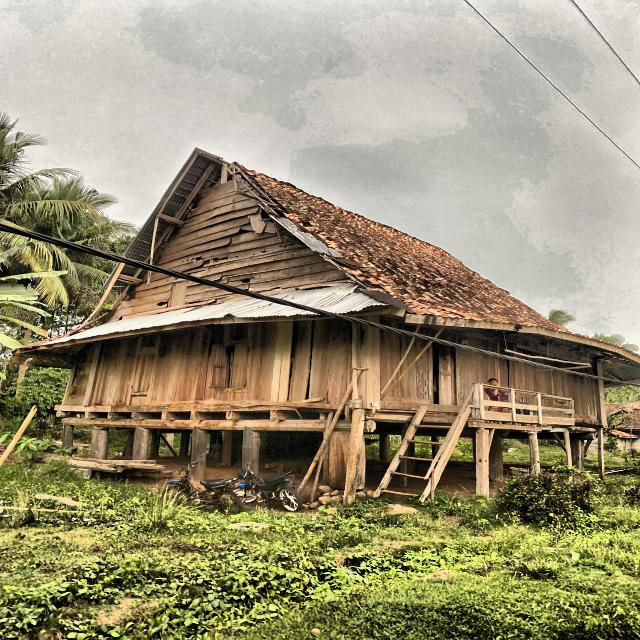column: (326, 431, 364, 493), (243, 427, 259, 479), (191, 428, 207, 480), (477, 430, 489, 499), (488, 436, 504, 481), (92, 425, 108, 460), (528, 432, 540, 476), (133, 427, 148, 460), (564, 432, 573, 482), (62, 424, 74, 455), (178, 433, 190, 458), (380, 434, 390, 462), (598, 427, 603, 480), (150, 433, 160, 457), (431, 436, 440, 460)
door: (433, 342, 457, 405)
stair: (9, 147, 640, 387), (374, 407, 471, 502)
wall: (61, 316, 606, 423)
window: (208, 340, 252, 393)
